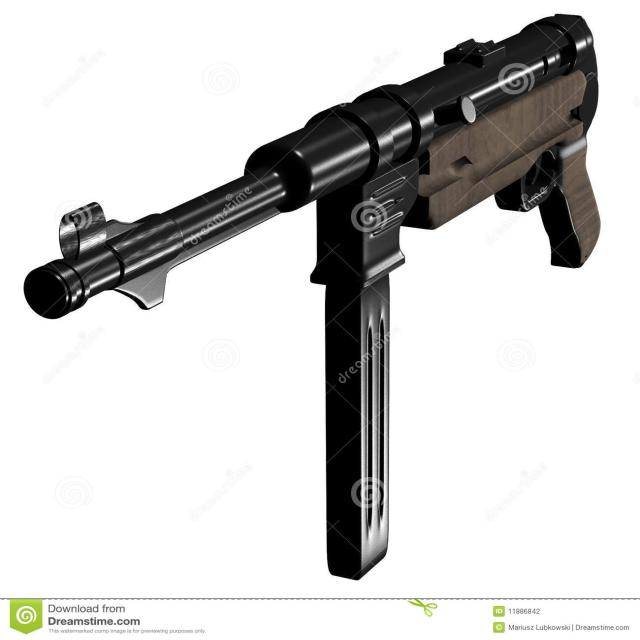SMG: (23, 14, 603, 581)
